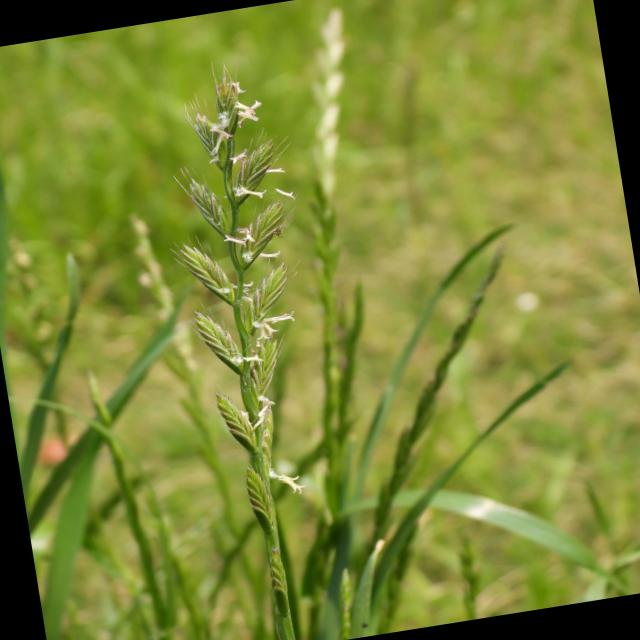Lolium: (139, 50, 371, 640)
